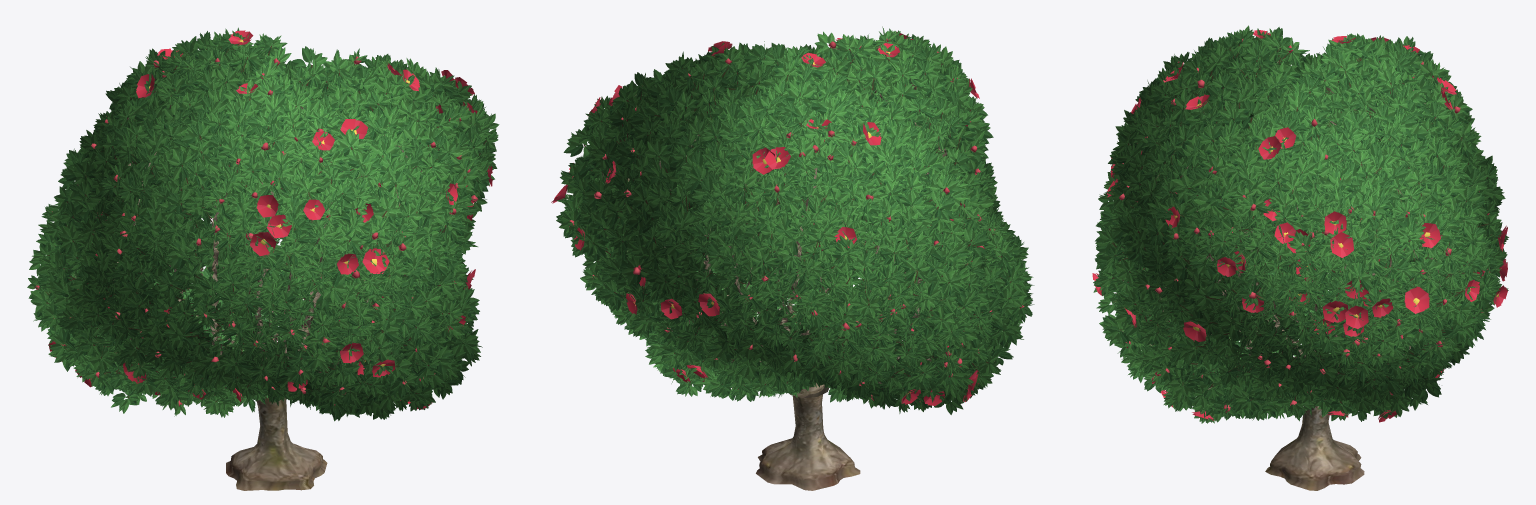
Rendered from camellia.glb.
3 views of the same model, side by side, from view 1: azimuth 30°, elevation 25°; view 2: azimuth 150°, elevation 25°; view 3: azimuth 270°, elevation 25° (orthographic). The views are drawn at different scales.
Parts seen in each view (by area): view 1: Foliage, Flowers, Trunk, Branches; view 2: Foliage, Flowers, Trunk, Branches; view 3: Foliage, Flowers, Trunk, Branches.
Boxes of the visible parts, x1,y1,x2,y2 form: Foliage: [27, 27, 499, 421]; Flowers: [34, 30, 492, 409]; Trunk: [226, 396, 327, 490]; Branches: [63, 105, 471, 372]; Foliage: [556, 26, 1034, 414]; Flowers: [551, 32, 1024, 405]; Trunk: [756, 386, 860, 490]; Branches: [602, 48, 1000, 398]; Foliage: [1093, 25, 1508, 423]; Flowers: [1092, 30, 1507, 422]; Trunk: [1265, 400, 1364, 490]; Branches: [1122, 52, 1461, 389].
Bounding box in the file's own units: 4.91 × 4.57 × 4.17.
4 materials, 3 textured.
